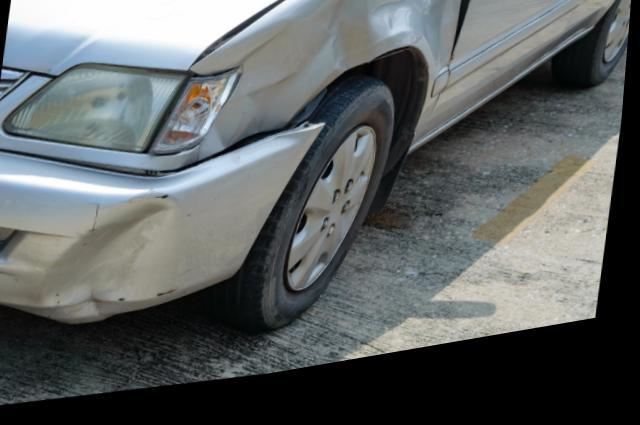dent: (201, 0, 467, 163), (41, 203, 178, 323)
